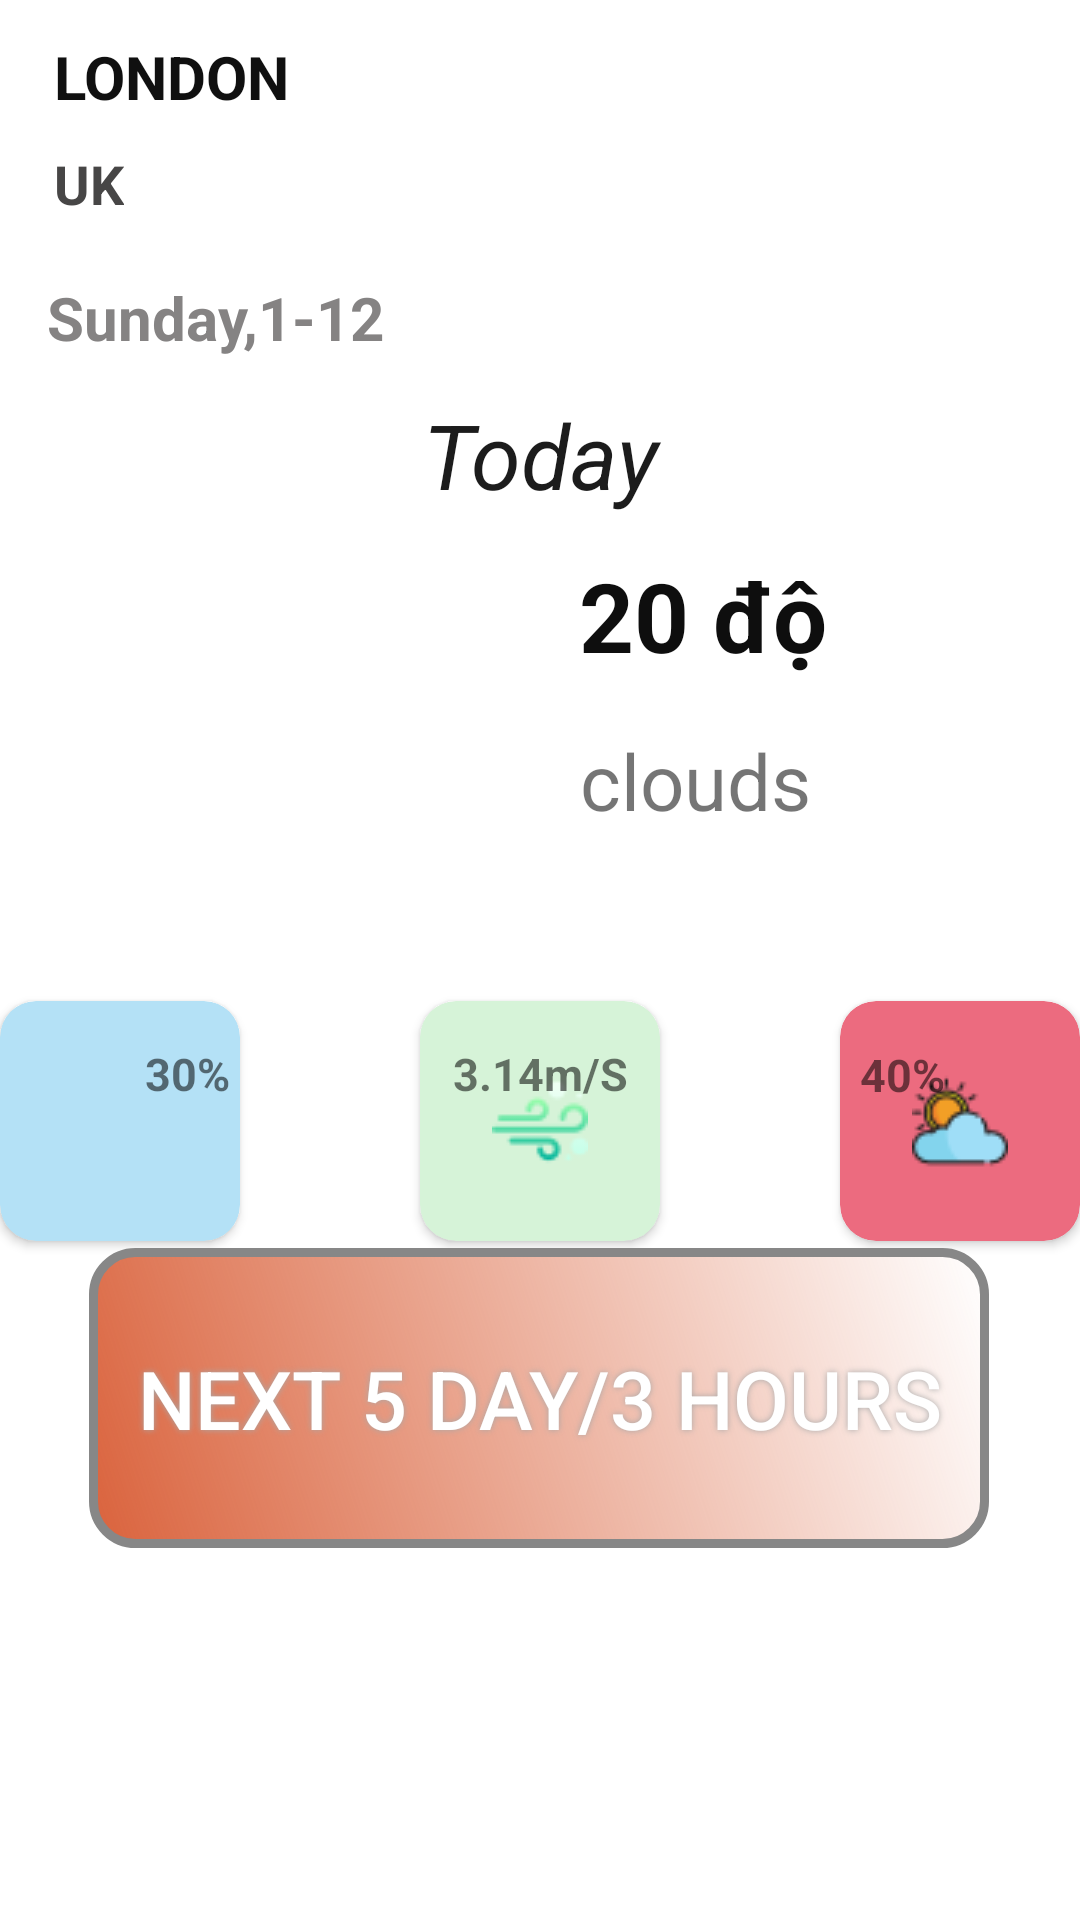

Screen size 1080w x 1920h. Icon name, then its box in pixels as (x1, y1, x2, y2):
cloudy: (912, 1073, 1008, 1166)
win: (492, 1095, 588, 1161)
